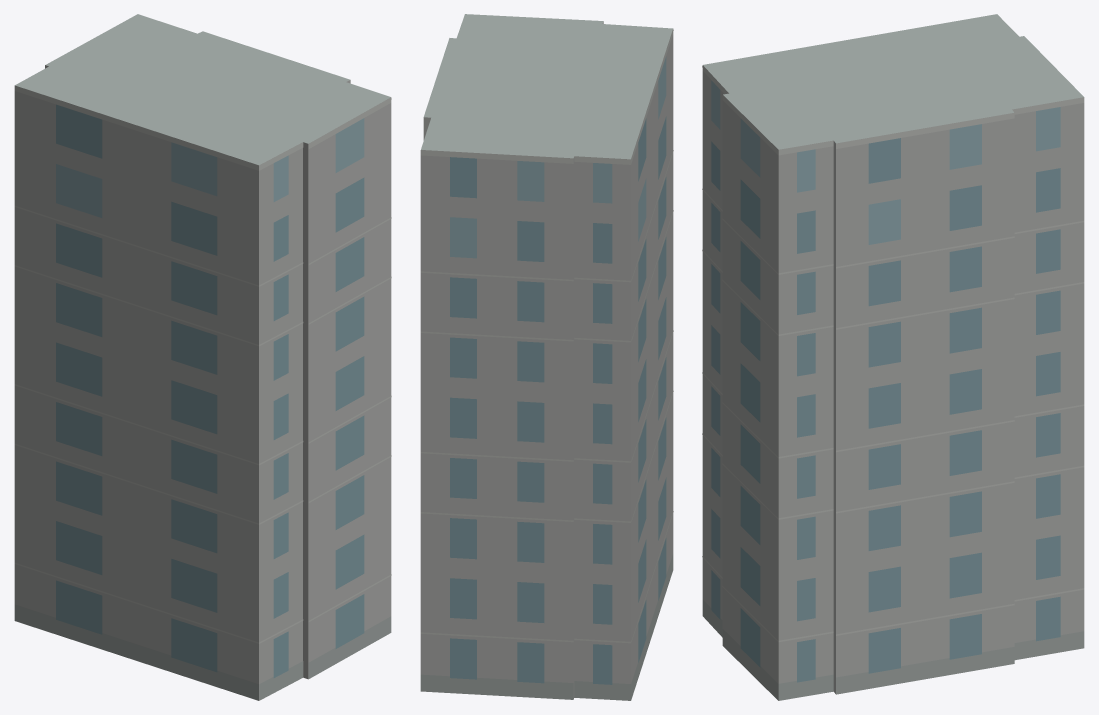
Rendered from survey-upis-32671199.glb.
3 renders of one model, left to right at view 1: azimuth 30°, elevation 25°; view 2: azimuth 150°, elevation 25°; view 3: azimuth 270°, elevation 25°, orthographic. The views are drawn at different scales.
Visible parts, largest first — view 1: survey-upis-32671199.tmp; view 2: survey-upis-32671199.tmp; view 3: survey-upis-32671199.tmp.
Boxes of the visible parts, x1,y1,x2,y2 form: survey-upis-32671199.tmp: (14,14,391,700); survey-upis-32671199.tmp: (420,14,673,700); survey-upis-32671199.tmp: (702,14,1084,700).
Size of the model in its own units: 12.49 by 23.6 by 14.84.
